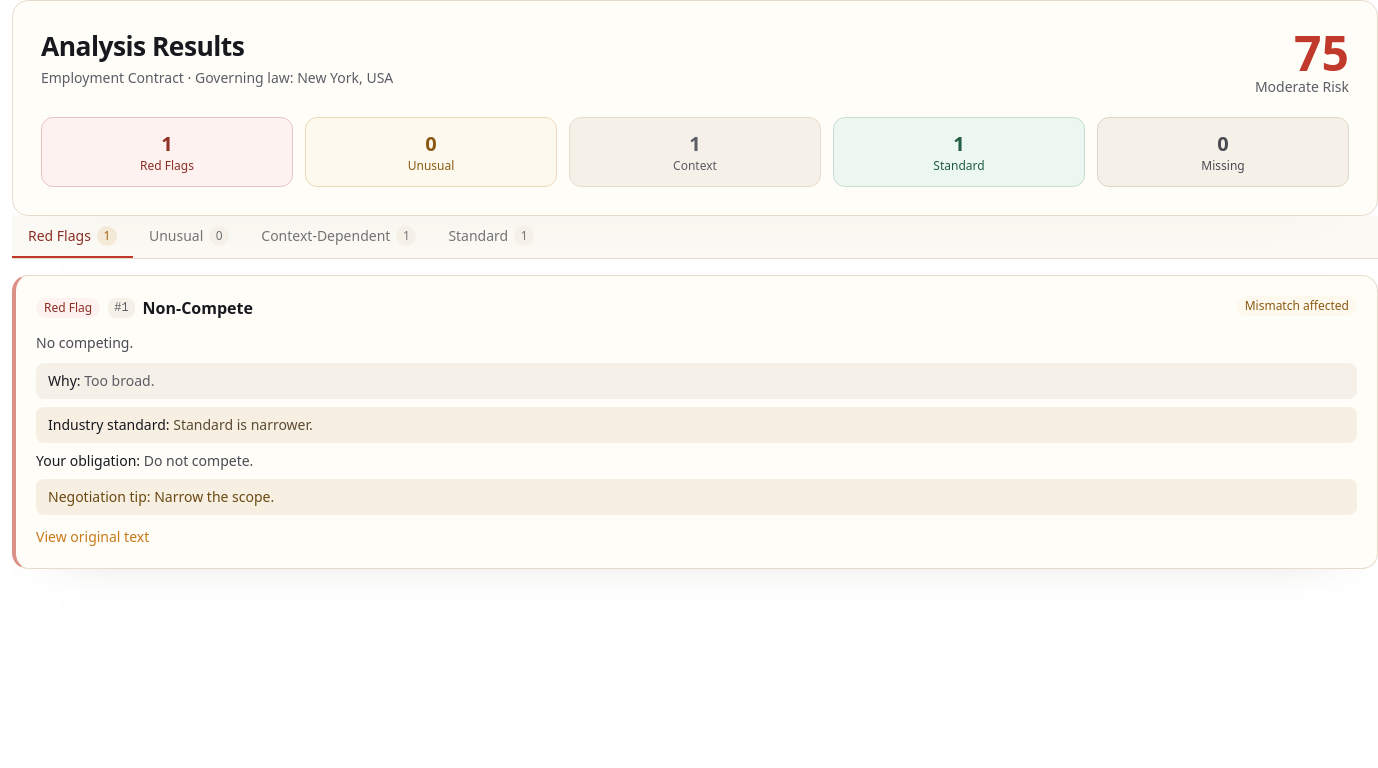
Scenario: RiskDashboard › shows empty state when no clauses in category
Click the tab "Unusual 0" at (189, 237), box [133, 216, 245, 258]
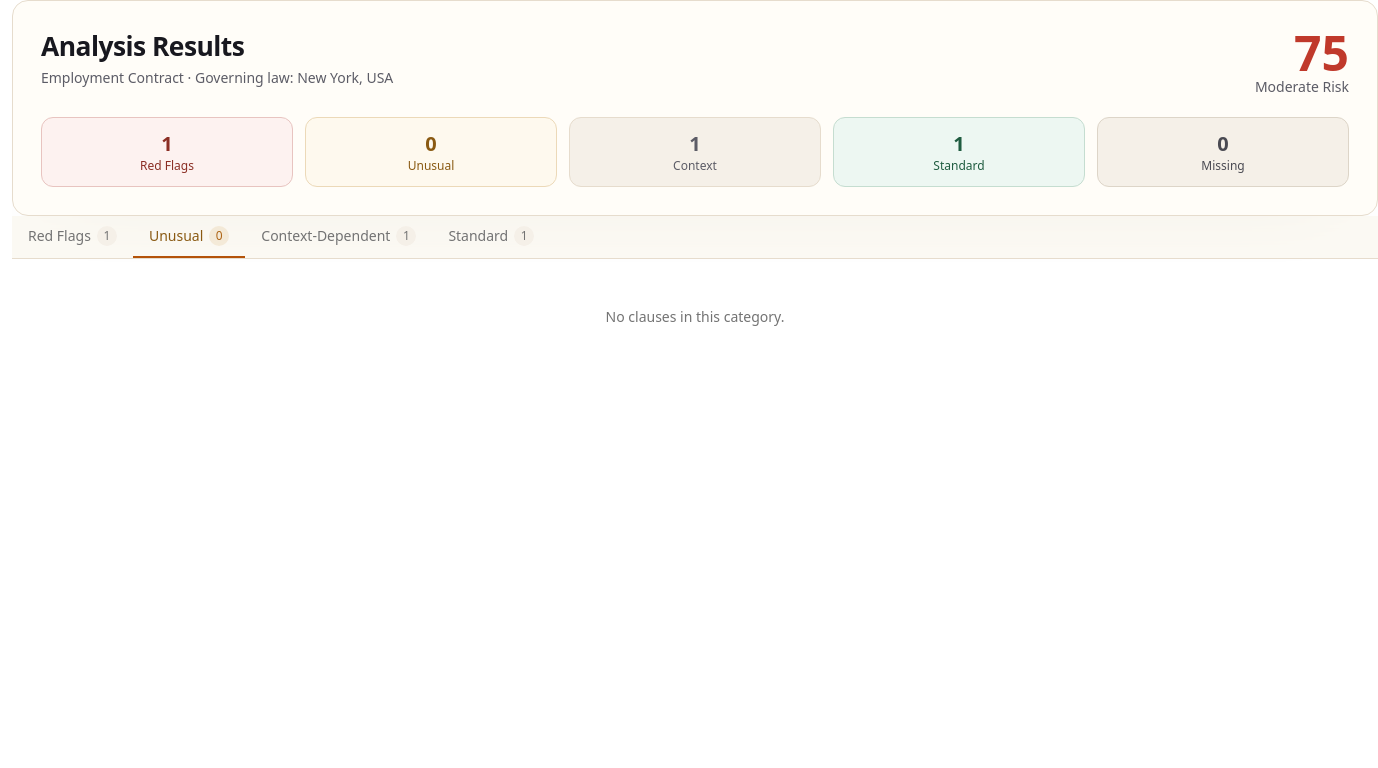
Result: the text "No clauses in this category." is shown at [606, 307, 784, 326]
